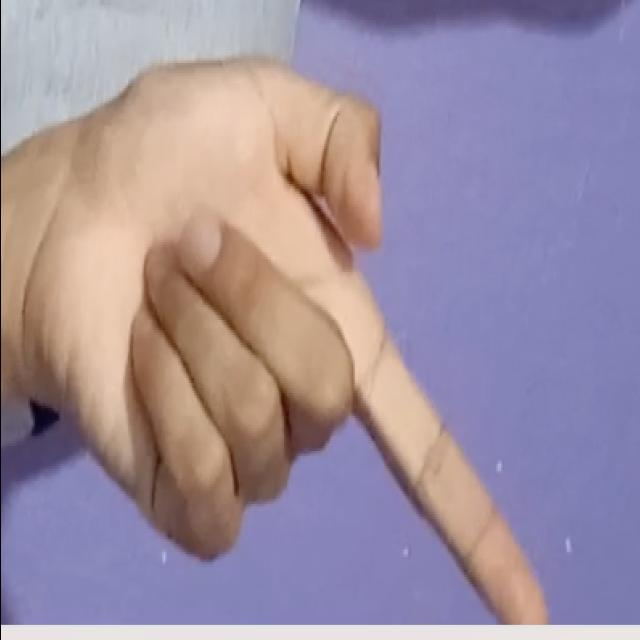Z: (34, 53, 562, 628)
